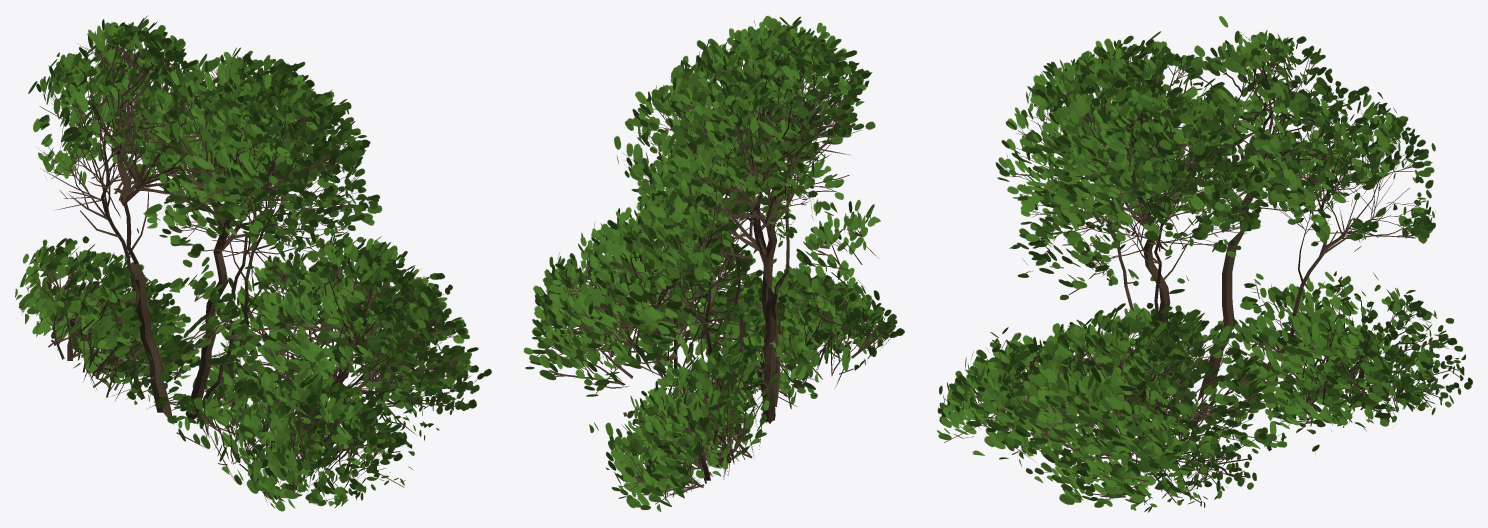
3 views of the same model, side by side, from view 1: azimuth 30°, elevation 25°; view 2: azimuth 150°, elevation 25°; view 3: azimuth 270°, elevation 25° (orthographic). The views are drawn at different scales.
Parts seen in each view (by area): view 1: oak 01.001_trunk_Mat.001_0.421; view 2: oak 01.001_trunk_Mat.001_0.421; view 3: oak 01.001_trunk_Mat.001_0.421.
Boxes of the visible parts, x1,y1,x2,y2 form: oak 01.001_trunk_Mat.001_0.421: (15, 15, 491, 511); oak 01.001_trunk_Mat.001_0.421: (523, 15, 904, 511); oak 01.001_trunk_Mat.001_0.421: (937, 16, 1472, 512).
Bounding box in the file's own units: 3.14 × 3.96 × 4.9.
Materials: 2 (1 with a texture image).
